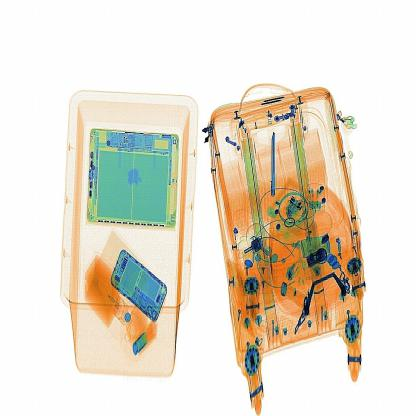pliers: (264, 119, 286, 202)
